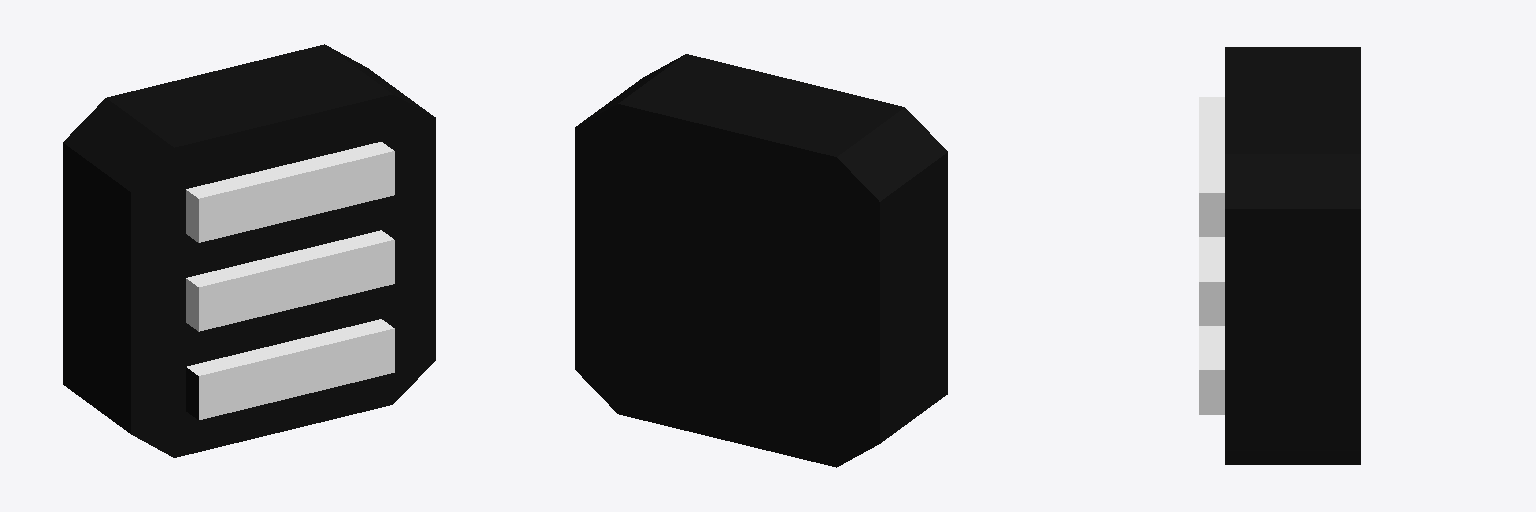
The picture shows the model from 3 angles: view 1: azimuth 30°, elevation 25°; view 2: azimuth 150°, elevation 25°; view 3: azimuth 270°, elevation 25°; orthographic projection.
Parts seen in each view (by area): view 1: 立方体; view 2: 立方体; view 3: 立方体.
Part boxes in pixels (x1,y1,x2,y2): 立方体: (63,44,435,457); 立方体: (575,54,947,467); 立方体: (1199,47,1360,464).
Bounding box in the file's own units: 0.7788 × 0.7572 × 0.3594.
1 materials, 1 textured.